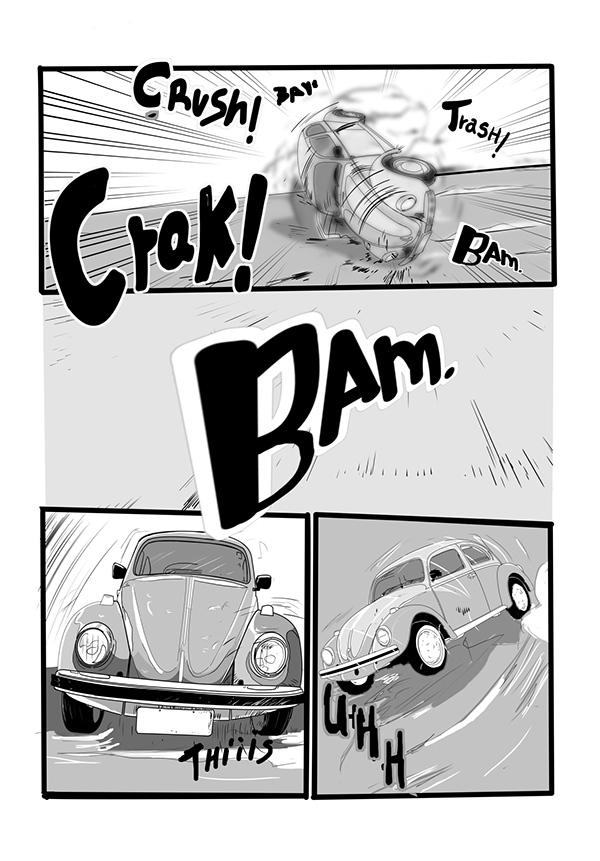car: (50, 514, 308, 775), (327, 524, 548, 702), (267, 109, 453, 274)
